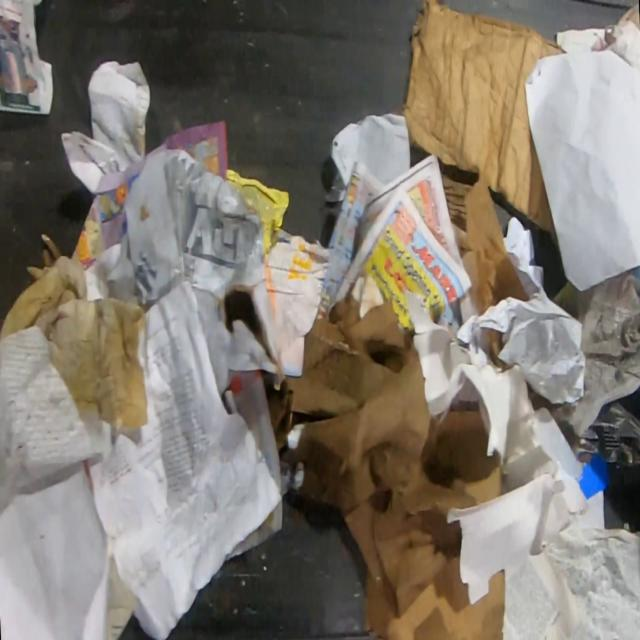cardboard: (265, 293, 507, 639), (402, 0, 568, 318)
